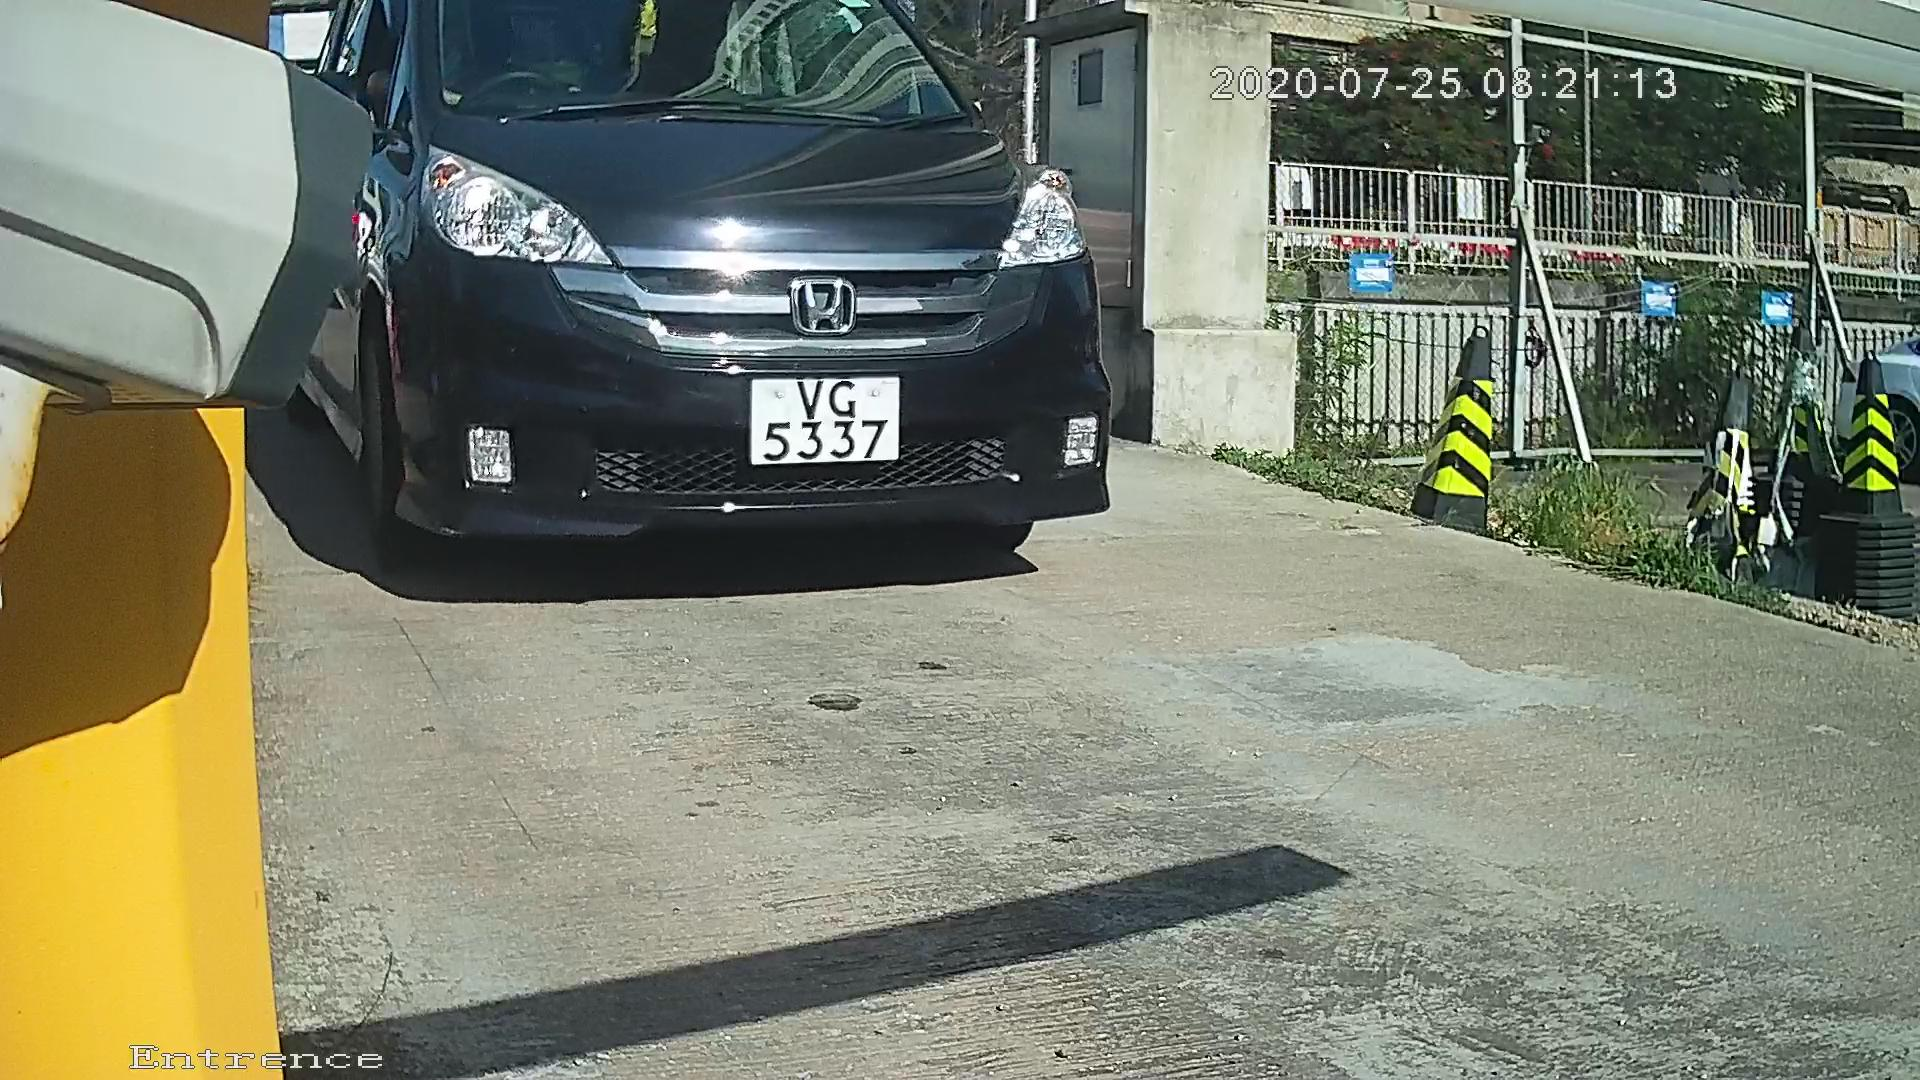License Plate: (729, 357, 918, 483)
